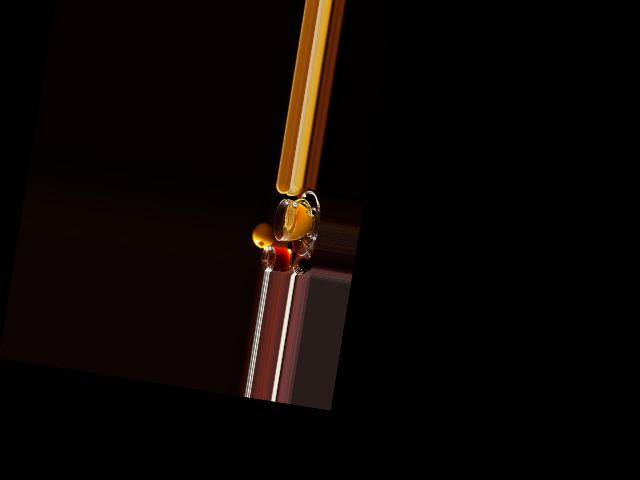lemon: (249, 217, 278, 252)
